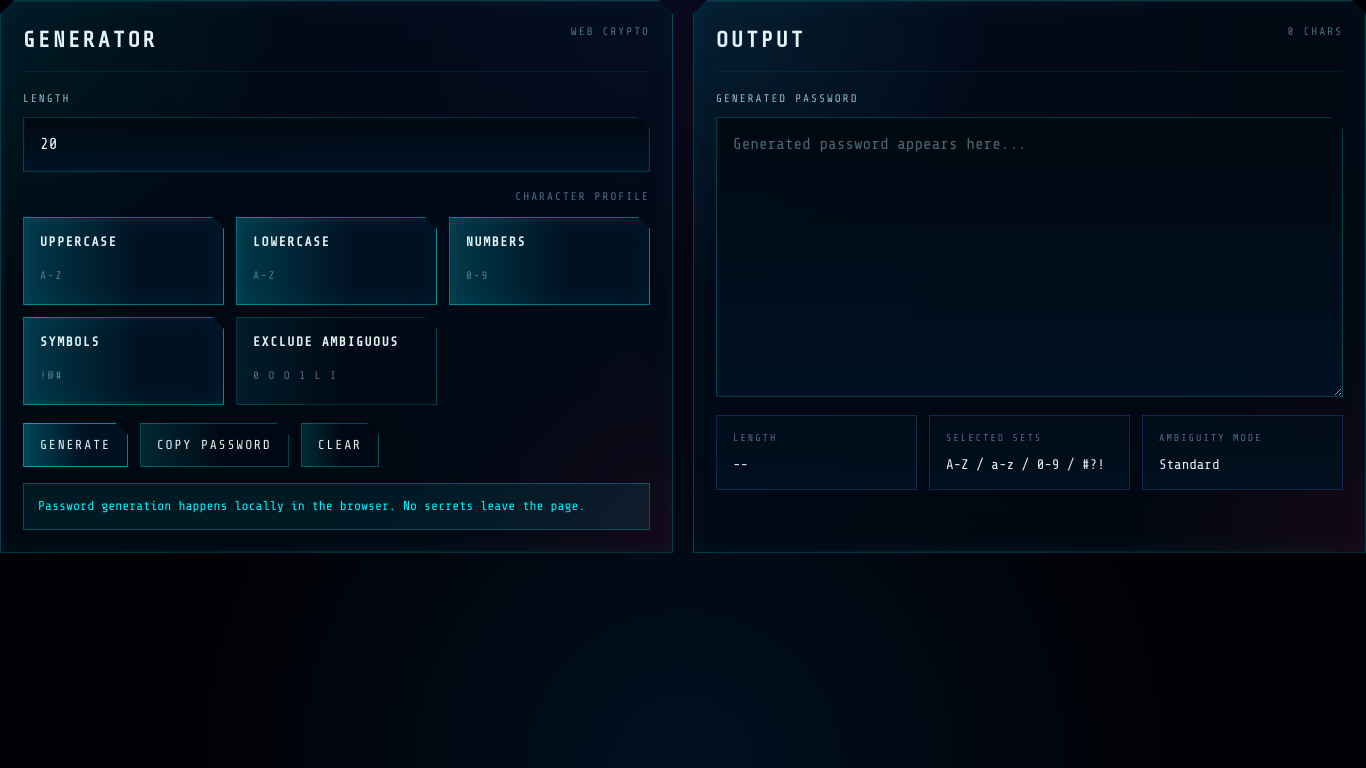
Test: password tool › generates a password with the selected profile, copies it, and clears it
Replace the text in the number field labelled "Length" with "24" at (336, 144), box x1=23 y1=117 x2=650 y2=172
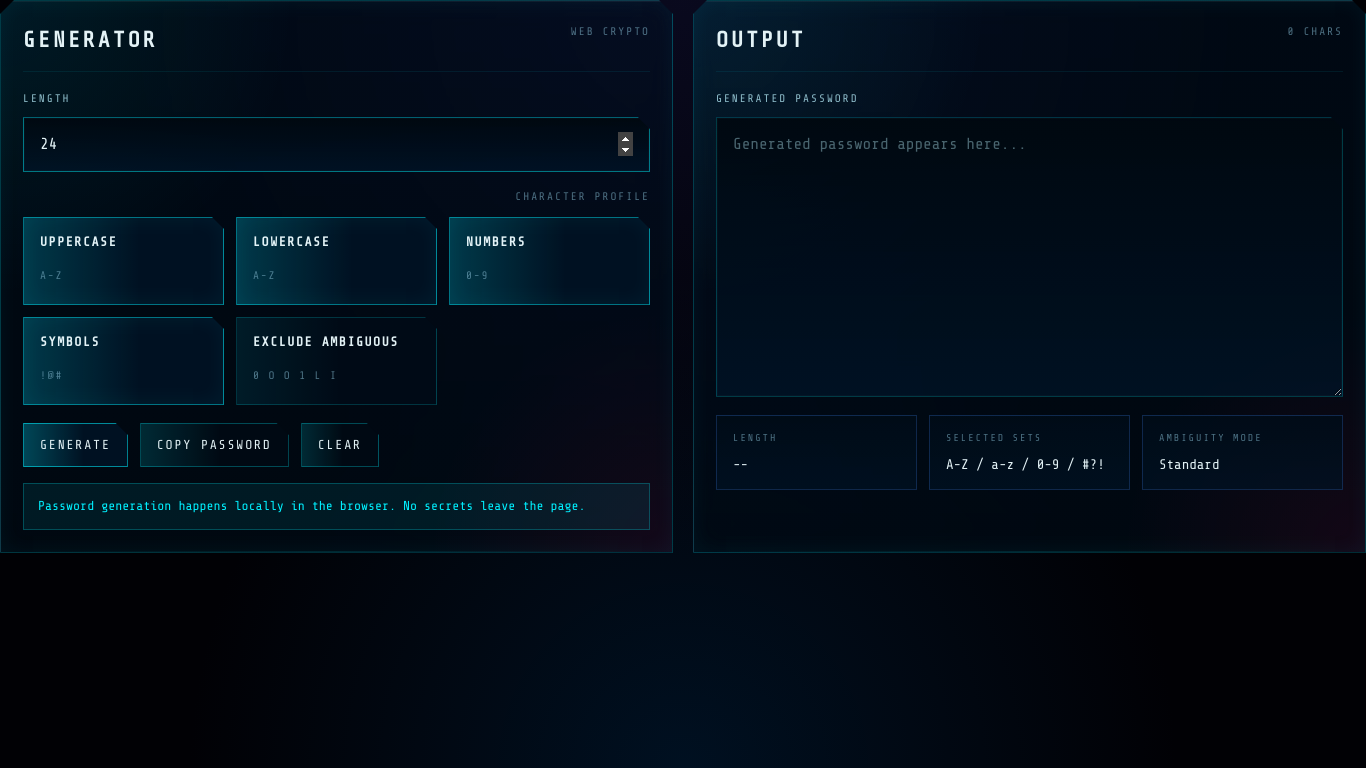
Click the button "Generate" at (75, 445), box x1=23 y1=423 x2=128 y2=467
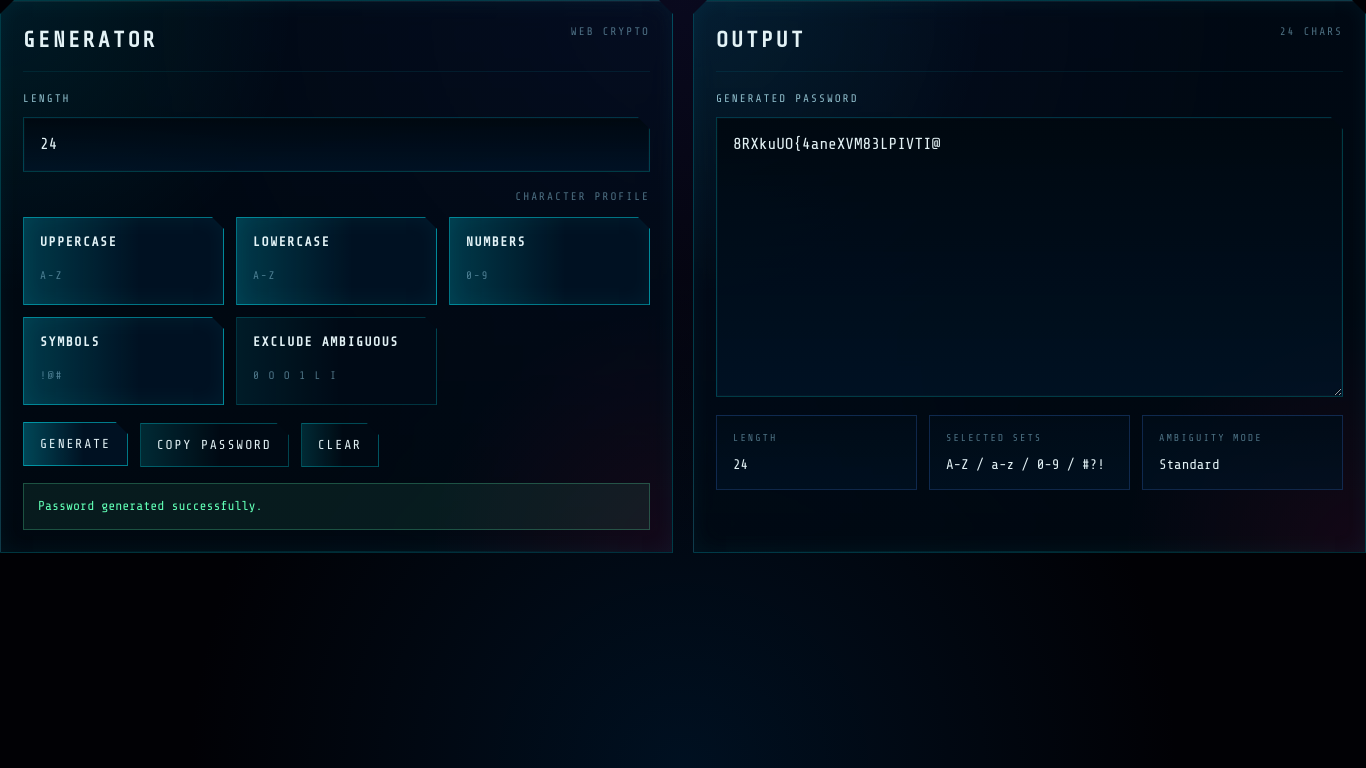
Click the button "Copy Password" at (214, 445), box x1=140 y1=423 x2=289 y2=467
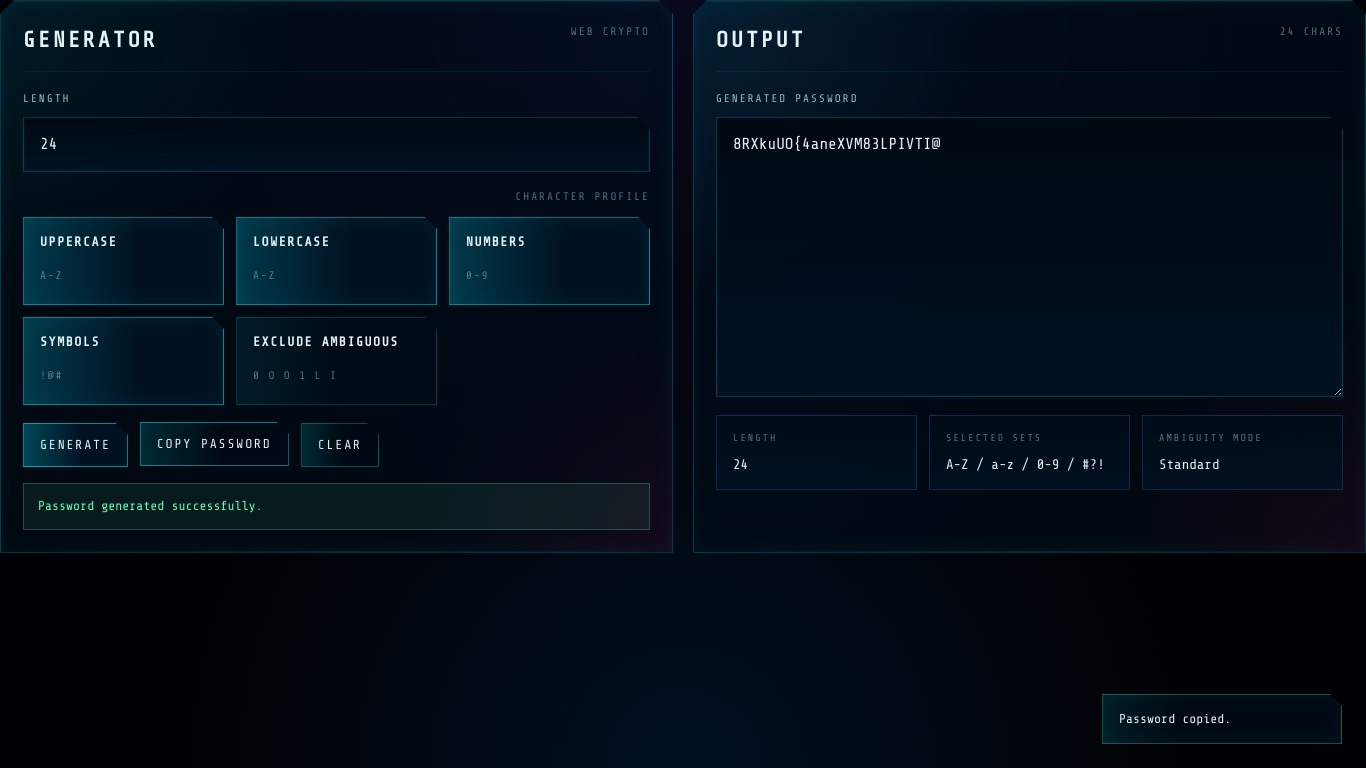
Click the button "Clear" at (340, 445), box x1=301 y1=423 x2=379 y2=467
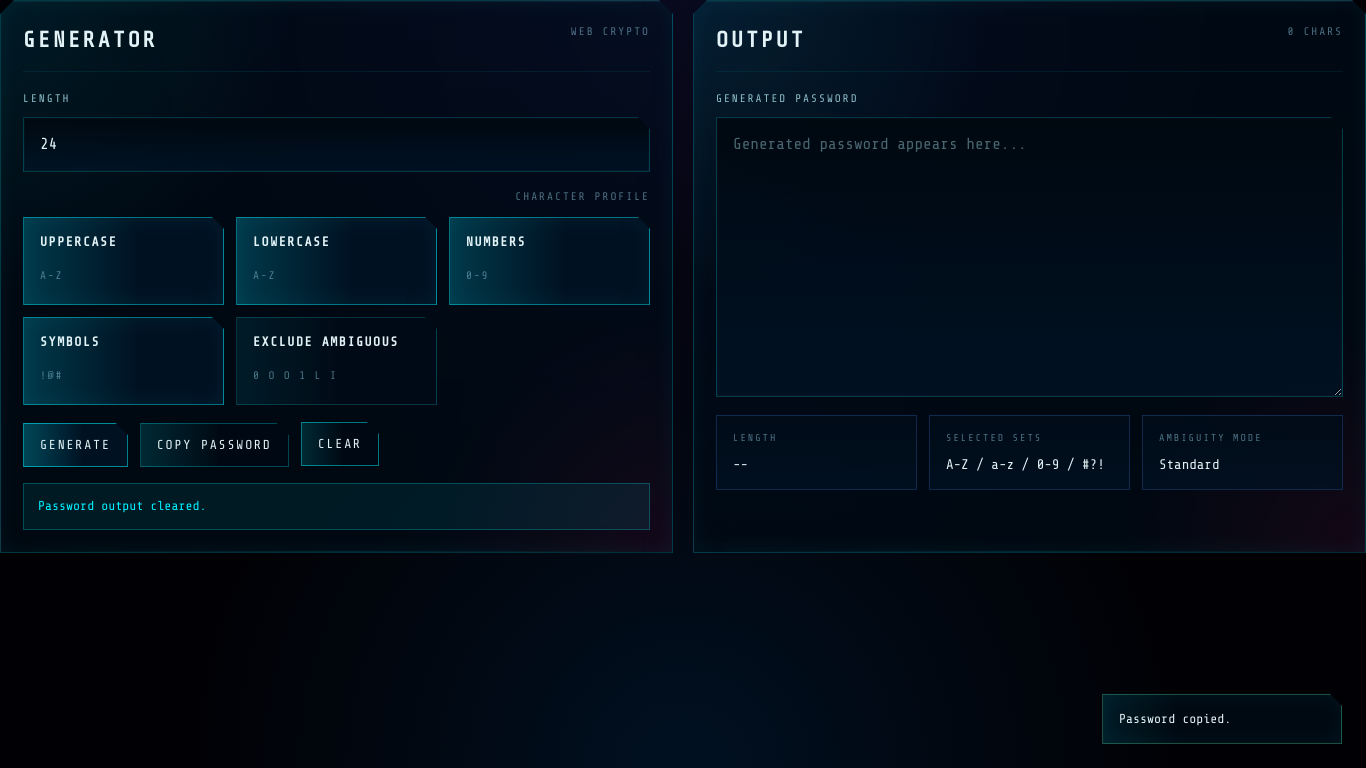
Now the text box labelled "Generated Password" is empty, box x1=716 y1=117 x2=1343 y2=397
